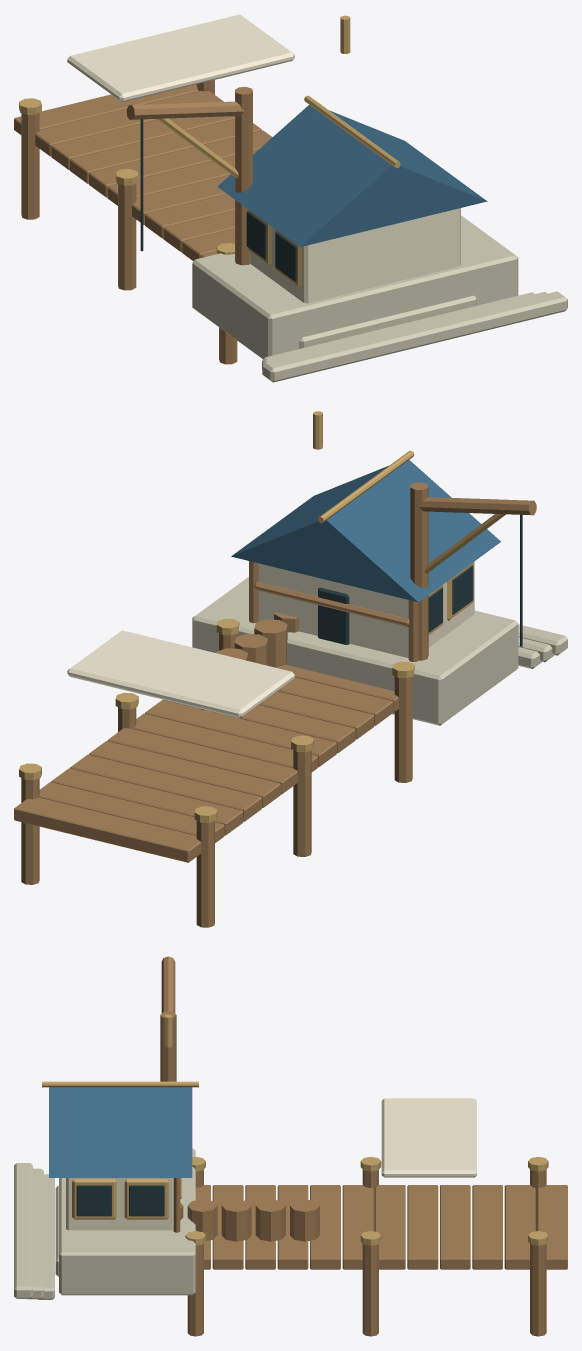
Rendered from level_20.glb.
3 views of the same model, one above another, from view 1: azimuth 30°, elevation 25°; view 2: azimuth 150°, elevation 25°; view 3: azimuth 270°, elevation 25° (orthographic). The views are drawn at different scales.
Visible parts, largest first — view 1: fishing_wharf — level 20; view 2: fishing_wharf — level 20; view 3: fishing_wharf — level 20.
Boxes of the visible parts, bbox=[...] form: fishing_wharf — level 20: bbox=[14, 14, 567, 382]; fishing_wharf — level 20: bbox=[14, 411, 567, 927]; fishing_wharf — level 20: bbox=[14, 956, 567, 1336].
Bounding box in the file's own units: 5.14 × 4.62 × 8.11.
